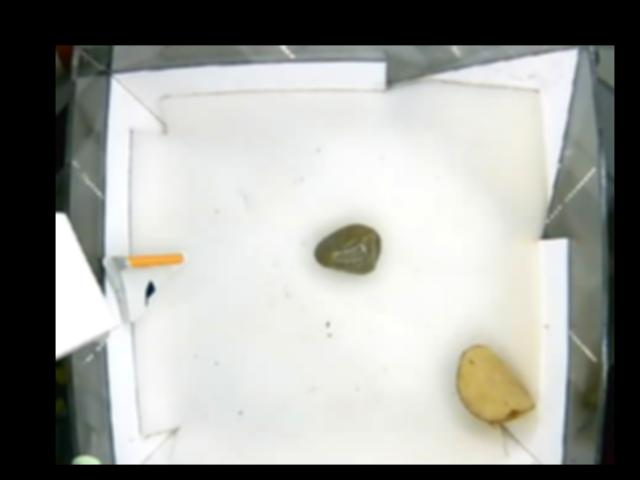China: (104, 255, 183, 324)
Pebble: (311, 223, 383, 274)
Potato: (452, 341, 536, 424)
